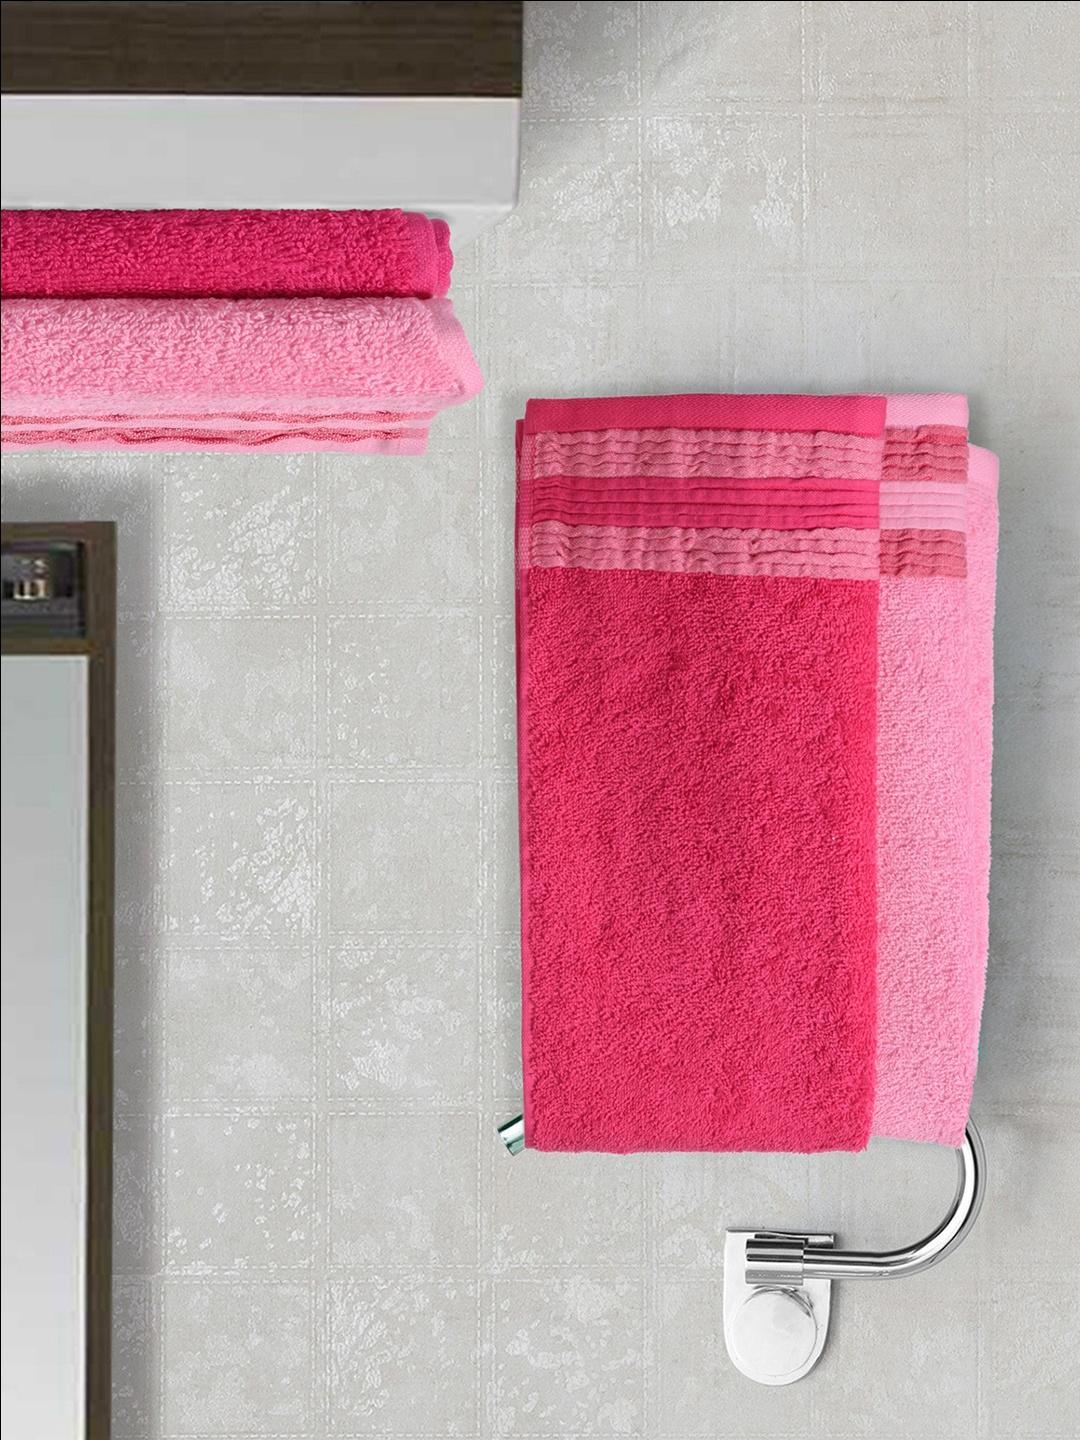towel: (493, 337, 1010, 1180)
